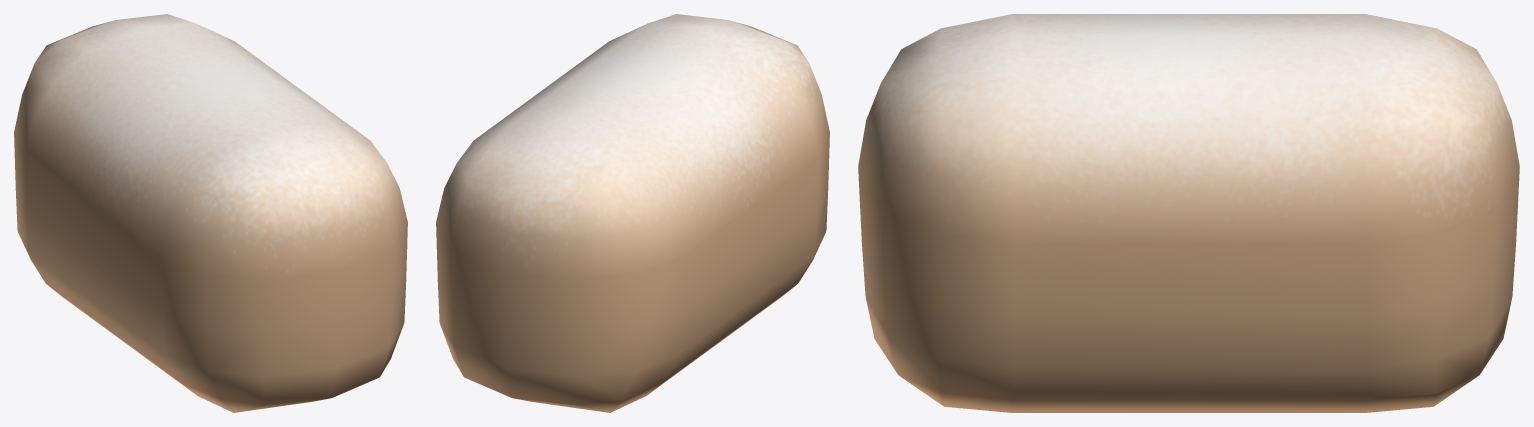
Rendered from Loaf_Dough_Light.fbx.
The picture shows the model from 3 angles, left to right: view 1: azimuth 30°, elevation 25°; view 2: azimuth 150°, elevation 25°; view 3: azimuth 270°, elevation 25°; orthographic projection. The views are drawn at different scales.
Parts seen in each view (by area): view 1: Loaf_Dough_Light; view 2: Loaf_Dough_Light; view 3: Loaf_Dough_Light.
Boxes of the visible parts, box(x1,y1,x2,y2) form: Loaf_Dough_Light: box(14, 14, 407, 412); Loaf_Dough_Light: box(436, 14, 829, 412); Loaf_Dough_Light: box(858, 14, 1519, 412).
Size of the model in its own units: 33.42 by 33.79 by 62.33.
